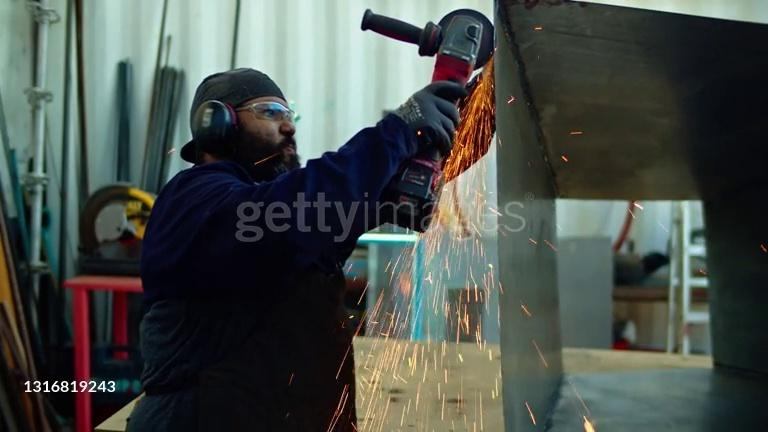person: (129, 67, 469, 431)
